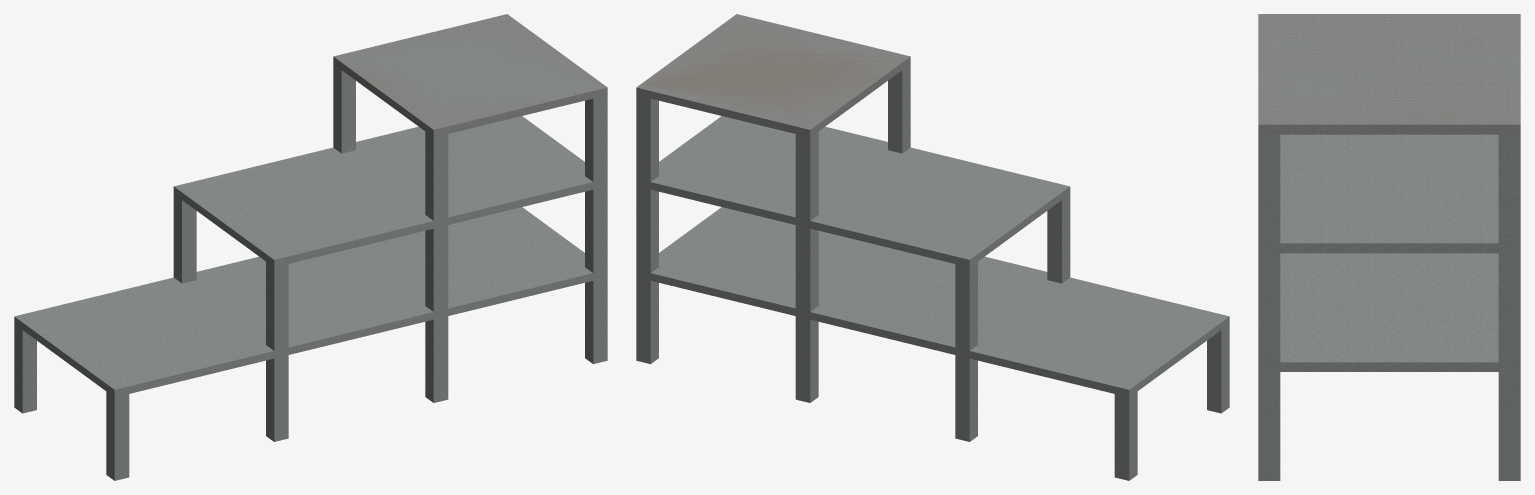
The model's file is skelet.obj.
3 views of the same model, side by side, from view 1: azimuth 30°, elevation 25°; view 2: azimuth 150°, elevation 25°; view 3: azimuth 270°, elevation 25° (orthographic). The views are drawn at different scales.
Visible parts, largest first — view 1: Mesh2 Group2 Model, Mesh12 Group12 Model, Mesh21 Group21 Model, Mesh5 Group5 Model, Mesh7 Group7 Model, Mesh10 Group10 Model, Mesh15 Group15 Model, Mesh13 Group13 Model, Mesh16 Group16 Model, Mesh19 Group19 Model, Mesh3 Group3 Model, Mesh20 Group20 Model (+3 smaller); view 2: Mesh2 Group2 Model, Mesh12 Group12 Model, Mesh21 Group21 Model, Mesh4 Group4 Model, Mesh8 Group8 Model, Mesh1 Group1 Model, Mesh18 Group18 Model, Mesh16 Group16 Model, Mesh13 Group13 Model, Mesh14 Group14 Model, Mesh6 Group6 Model, Mesh17 Group17 Model (+3 smaller); view 3: Mesh21 Group21 Model, Mesh12 Group12 Model, Mesh2 Group2 Model, Mesh3 Group3 Model, Mesh6 Group6 Model, Mesh9 Group9 Model, Mesh11 Group11 Model, Mesh14 Group14 Model, Mesh19 Group19 Model.
Part boxes in pixels (bbox=[...]): Mesh2 Group2 Model: bbox=[14, 207, 607, 397]; Mesh12 Group12 Model: bbox=[173, 116, 607, 267]; Mesh21 Group21 Model: bbox=[333, 14, 607, 137]; Mesh5 Group5 Model: bbox=[425, 131, 448, 220]; Mesh7 Group7 Model: bbox=[106, 391, 129, 480]; Mesh10 Group10 Model: bbox=[425, 316, 448, 402]; Mesh15 Group15 Model: bbox=[425, 225, 448, 311]; Mesh13 Group13 Model: bbox=[266, 262, 288, 350]; Mesh16 Group16 Model: bbox=[173, 194, 196, 283]; Mesh19 Group19 Model: bbox=[585, 277, 607, 364]; Mesh3 Group3 Model: bbox=[585, 186, 607, 272]; Mesh20 Group20 Model: bbox=[266, 355, 288, 441]; Mesh2 Group2 Model: bbox=[636, 207, 1229, 397]; Mesh12 Group12 Model: bbox=[636, 116, 1070, 267]; Mesh21 Group21 Model: bbox=[636, 14, 910, 137]; Mesh4 Group4 Model: bbox=[795, 131, 818, 220]; Mesh8 Group8 Model: bbox=[1114, 391, 1137, 480]; Mesh1 Group1 Model: bbox=[795, 225, 818, 311]; Mesh18 Group18 Model: bbox=[795, 316, 818, 402]; Mesh16 Group16 Model: bbox=[955, 262, 977, 350]; Mesh13 Group13 Model: bbox=[1047, 194, 1070, 283]; Mesh14 Group14 Model: bbox=[636, 277, 658, 364]; Mesh6 Group6 Model: bbox=[636, 186, 658, 272]; Mesh17 Group17 Model: bbox=[955, 355, 977, 441]; Mesh21 Group21 Model: bbox=[1258, 14, 1520, 134]; Mesh12 Group12 Model: bbox=[1258, 134, 1520, 253]; Mesh2 Group2 Model: bbox=[1258, 253, 1520, 371]; Mesh3 Group3 Model: bbox=[1258, 253, 1280, 362]; Mesh6 Group6 Model: bbox=[1498, 253, 1520, 362]; Mesh9 Group9 Model: bbox=[1498, 134, 1520, 243]; Mesh11 Group11 Model: bbox=[1258, 134, 1280, 243]; Mesh14 Group14 Model: bbox=[1498, 372, 1520, 480]; Mesh19 Group19 Model: bbox=[1258, 372, 1280, 480].
Bounding box in the file's own units: 850 × 450 × 300.
2 materials, 1 textured.
